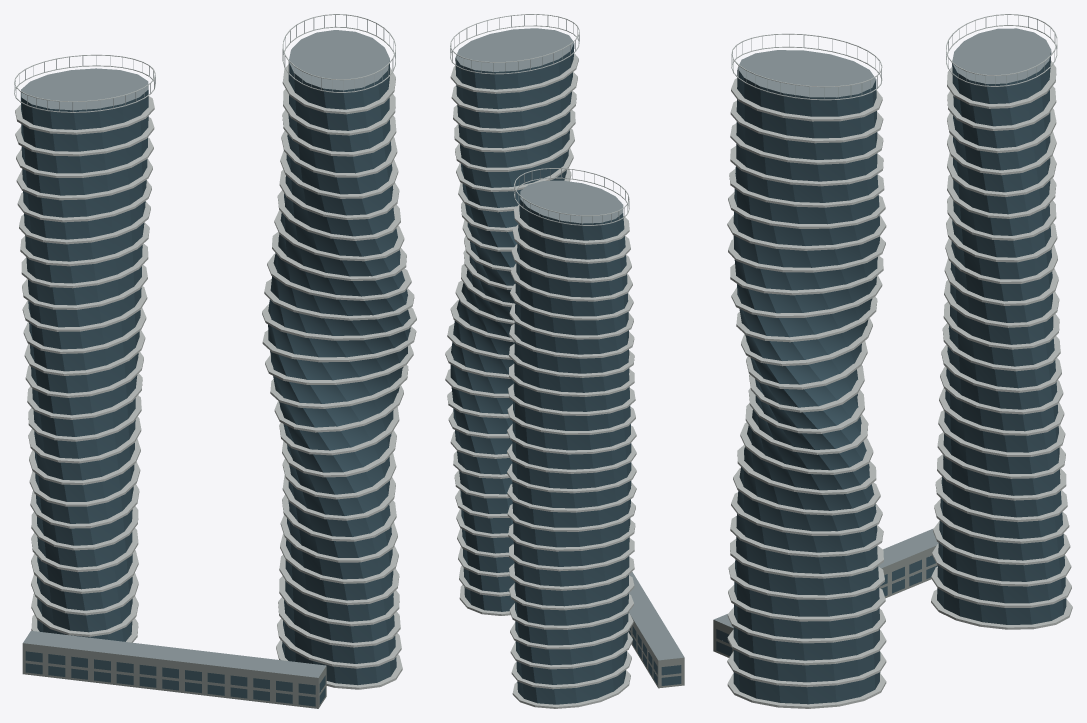
Rendered from absolute-world-mississauga-far.glb.
3 views of the same model, side by side, from view 1: azimuth 30°, elevation 25°; view 2: azimuth 150°, elevation 25°; view 3: azimuth 270°, elevation 25° (orthographic). The views are drawn at different scales.
Visible parts, largest first — view 1: absolute-world-mississauga-0-glass, absolute-world-mississauga-0-balcony, absolute-world-mississauga-0-roof, absolute-world-mississauga-0-stone, absolute-world-mississauga-0-crown, absolute-world-mississauga-0-frame; view 2: absolute-world-mississauga-0-glass, absolute-world-mississauga-0-balcony, absolute-world-mississauga-0-roof, absolute-world-mississauga-0-crown, absolute-world-mississauga-0-stone, absolute-world-mississauga-0-frame; view 3: absolute-world-mississauga-0-glass, absolute-world-mississauga-0-balcony, absolute-world-mississauga-0-roof, absolute-world-mississauga-0-crown, absolute-world-mississauga-0-stone, absolute-world-mississauga-0-frame.
Boxes of the visible parts, x1,y1,x2,y2 form: absolute-world-mississauga-0-glass: [21, 61, 410, 706]; absolute-world-mississauga-0-balcony: [15, 64, 416, 689]; absolute-world-mississauga-0-roof: [21, 30, 389, 677]; absolute-world-mississauga-0-stone: [22, 643, 326, 708]; absolute-world-mississauga-0-crown: [14, 14, 395, 112]; absolute-world-mississauga-0-frame: [14, 15, 395, 111]; absolute-world-mississauga-0-glass: [450, 43, 681, 704]; absolute-world-mississauga-0-balcony: [445, 53, 636, 708]; absolute-world-mississauga-0-roof: [455, 28, 684, 660]; absolute-world-mississauga-0-crown: [450, 14, 629, 225]; absolute-world-mississauga-0-stone: [628, 612, 684, 688]; absolute-world-mississauga-0-frame: [450, 15, 629, 224]; absolute-world-mississauga-0-glass: [716, 51, 1066, 704]; absolute-world-mississauga-0-balcony: [727, 60, 1072, 708]; absolute-world-mississauga-0-roof: [714, 28, 1051, 628]; absolute-world-mississauga-0-crown: [731, 14, 1057, 100]; absolute-world-mississauga-0-stone: [713, 546, 937, 657]; absolute-world-mississauga-0-frame: [731, 15, 1057, 99].
Bounding box in the file's own units: 98.2 × 180 × 93.59.
